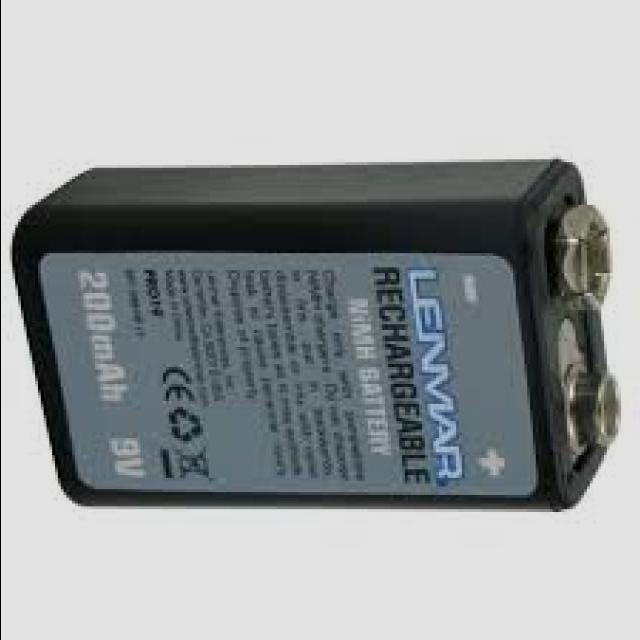9V: (12, 158, 621, 512)
